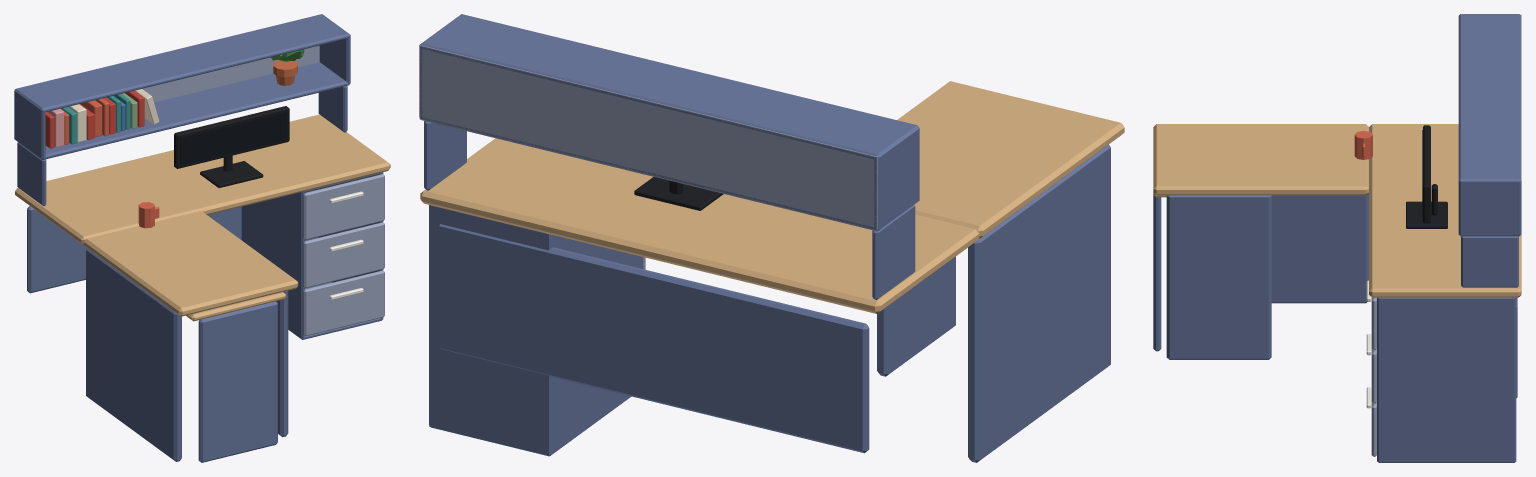
The model's file is corner_fold_desk.glb.
3 renders of one model, left to right at view 1: azimuth 30°, elevation 25°; view 2: azimuth 150°, elevation 25°; view 3: azimuth 270°, elevation 25°, orthographic. The views are drawn at different scales.
Visible parts, largest first — view 1: corner_fold_desk_Body, corner_fold_desk_Leaf; view 2: corner_fold_desk_Body; view 3: corner_fold_desk_Body, corner_fold_desk_Leaf.
Boxes of the visible parts, left/top/right/bottom form: corner_fold_desk_Body: left=14, top=14, right=390, bottom=461; corner_fold_desk_Leaf: left=186, top=292, right=286, bottom=462; corner_fold_desk_Body: left=419, top=14, right=1124, bottom=462; corner_fold_desk_Body: left=1153, top=14, right=1521, bottom=462; corner_fold_desk_Leaf: left=1153, top=193, right=1273, bottom=351.
Size of the model in its own units: 1.5 by 1.2 by 1.4.
